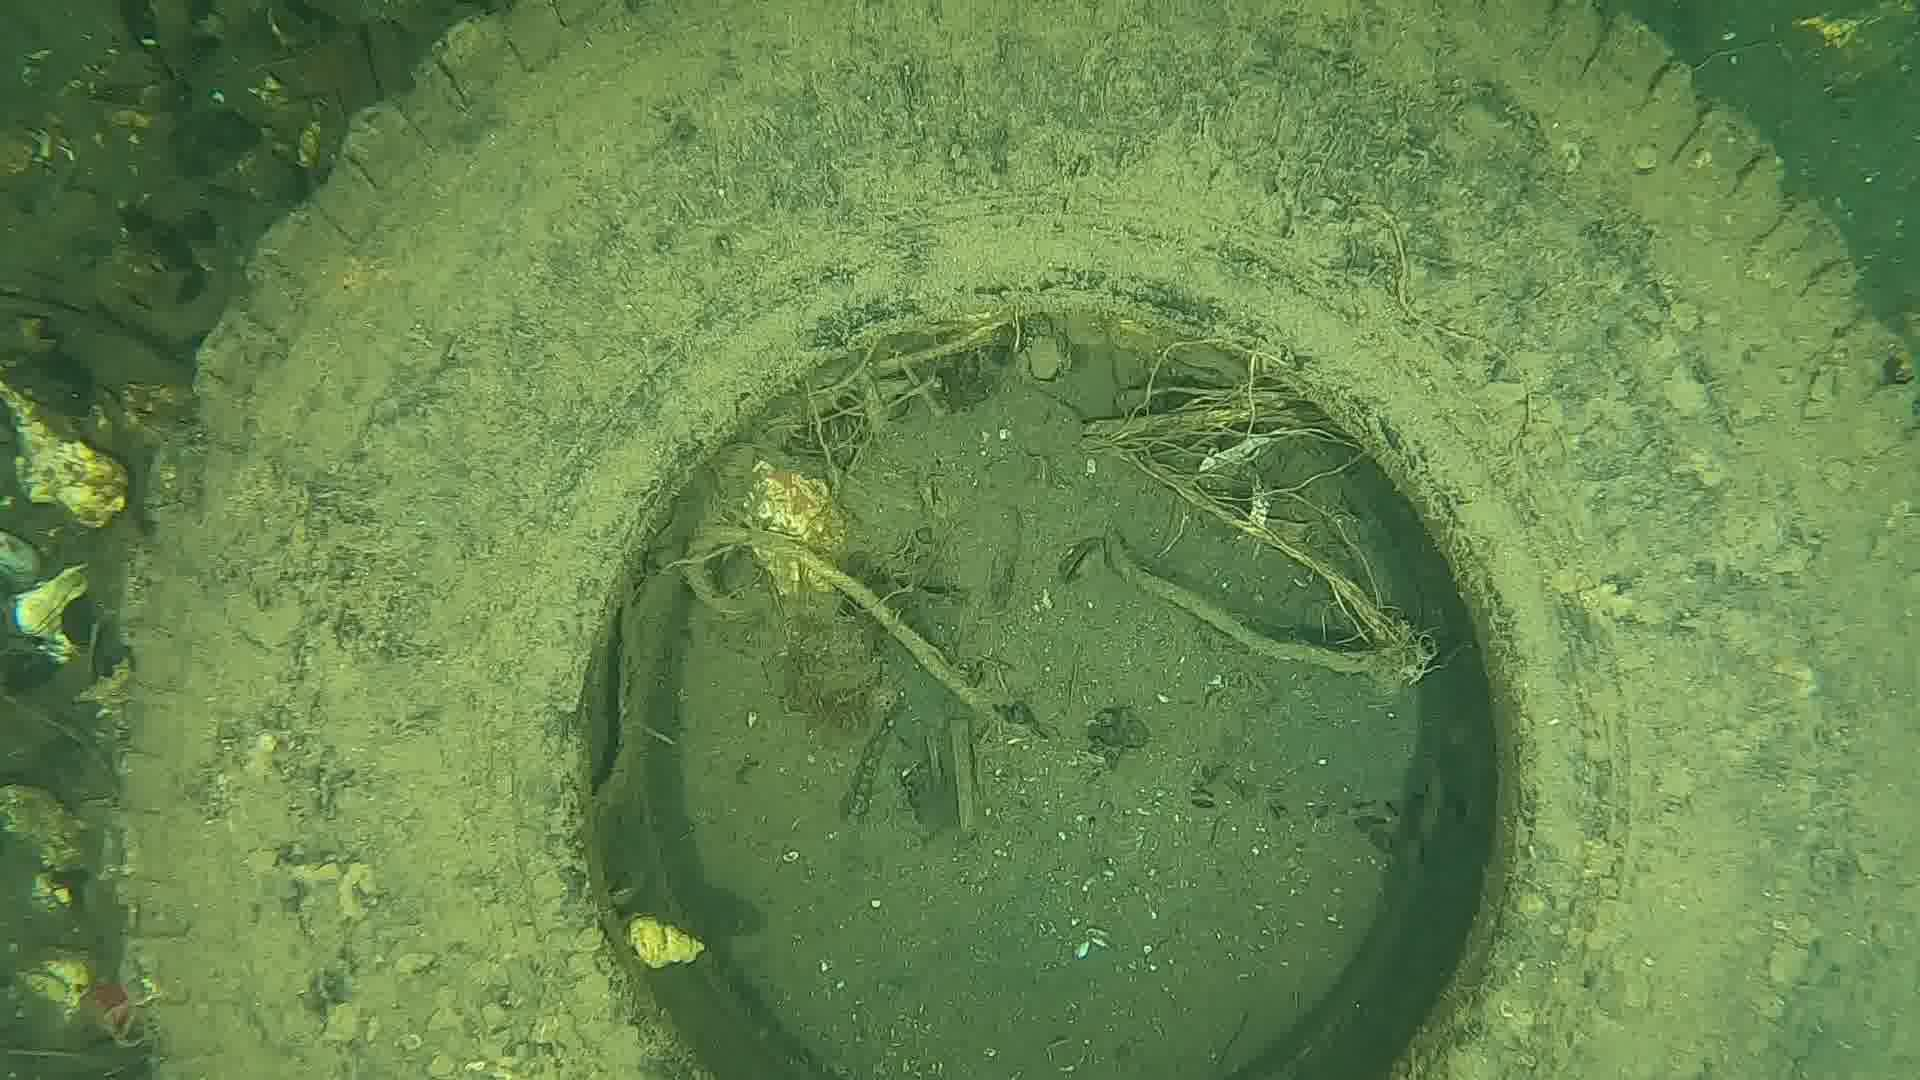tire: (112, 7, 1920, 1080)
